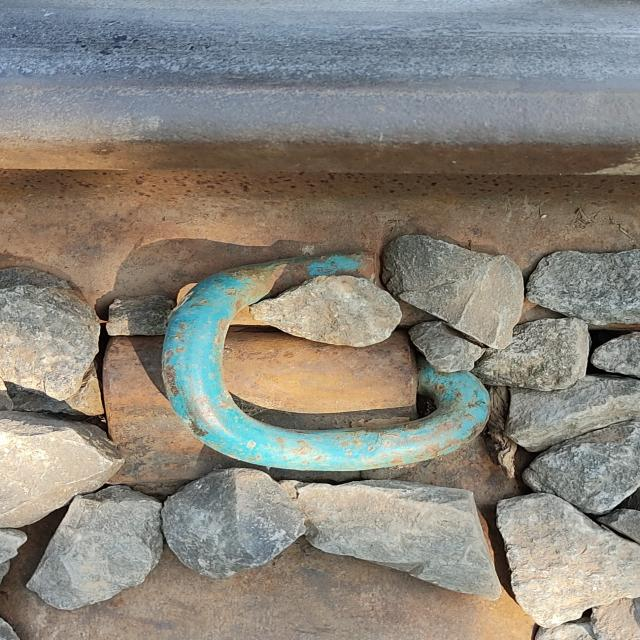track_bolt: (145, 243, 508, 483)
